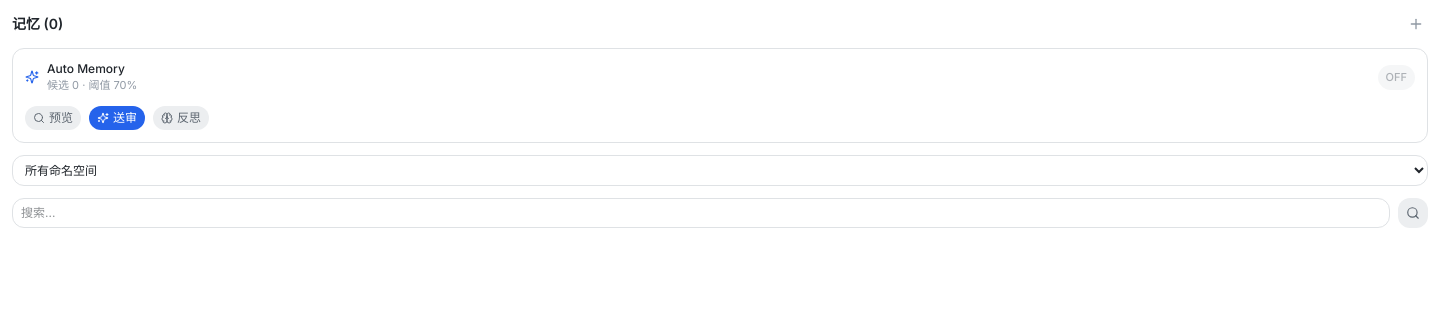
Test: MemoryPanel workspace projection › does not let an older list overwrite a newer same-workspace search
The width and height of the screenshot is (1440, 314).
Step 1. Type "fact" into the field with placeholder "搜索..." → (701, 212), box x1=12 y1=198 x2=1390 y2=228
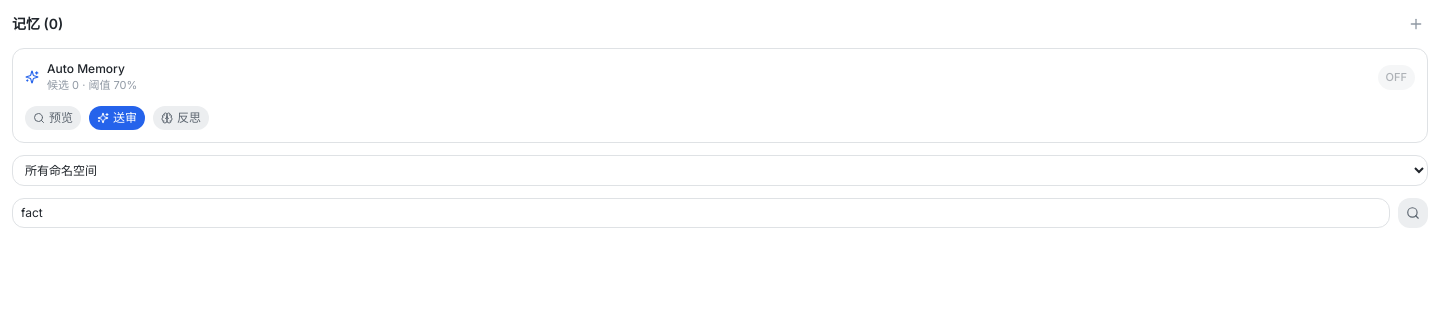
Step 2. Press Enter in the field with placeholder "搜索...", box x1=12 y1=198 x2=1390 y2=228
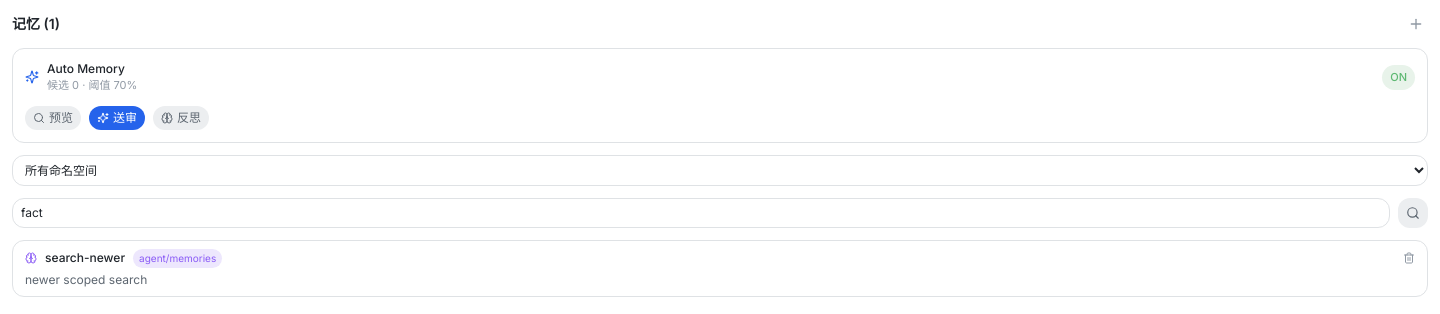
Result: the text "newer scoped search" is shown at x1=25 y1=272 x2=147 y2=286
